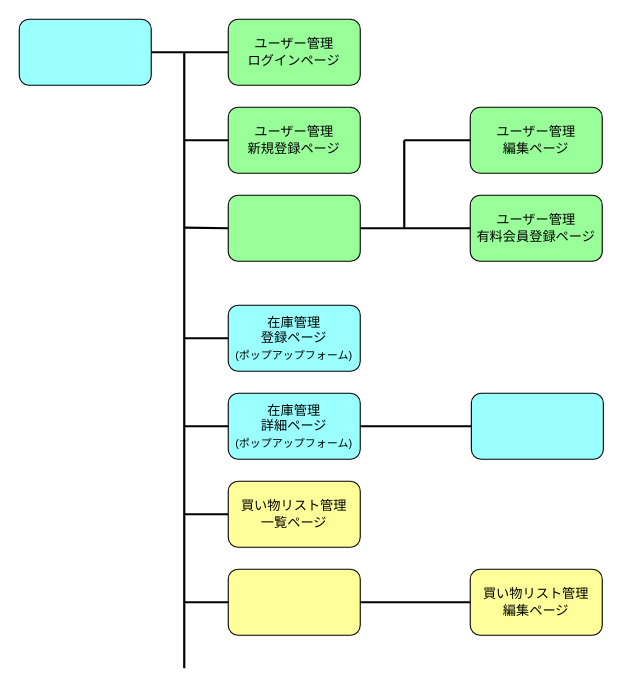
Image size: 623x690. Some labels were removed from this diagram. Here are the shapes that lost their labels. From the top down, the centre of each, then its label:
(x=84, y=51): 在庫リスト管理 一覧ページ [トップページ]
(x=293, y=227): ユーザー管理 詳細ページ (マイページ)
(x=536, y=425): 在庫管理 編集ページ (ポップアップフォーム)
(x=293, y=601): 買い物リスト管理 詳細ページ
